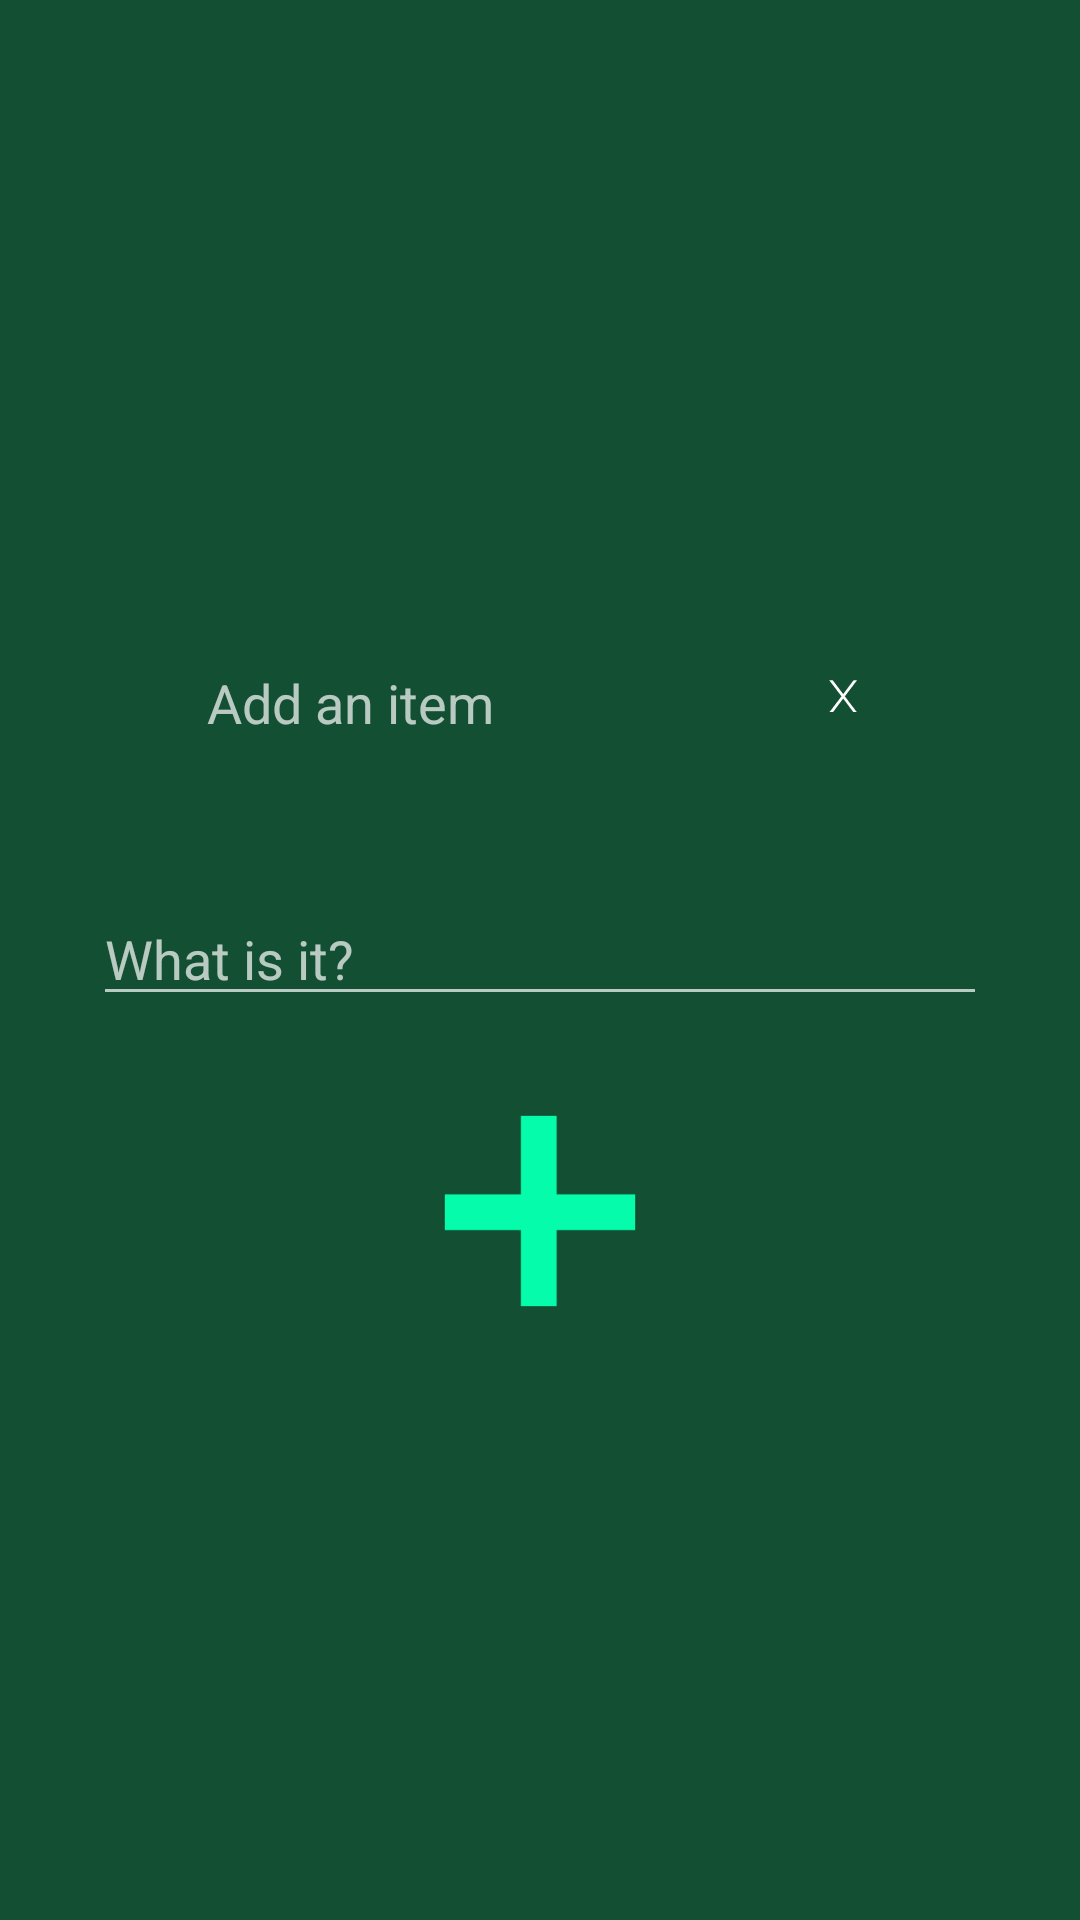

Icon click points for this 1080w x 1920h phone screenshot, format (x,y):
close: (843,696)
plusbig: (540,1211)
